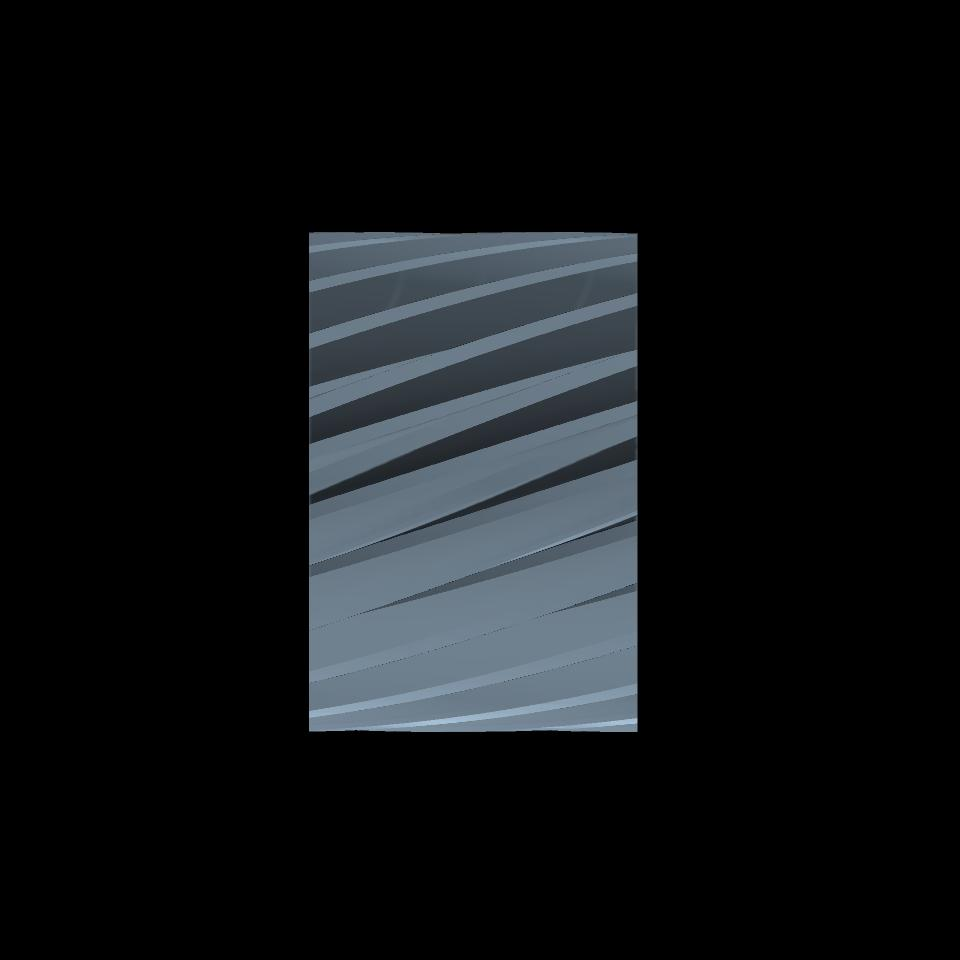Helical: (309, 232, 635, 732)
